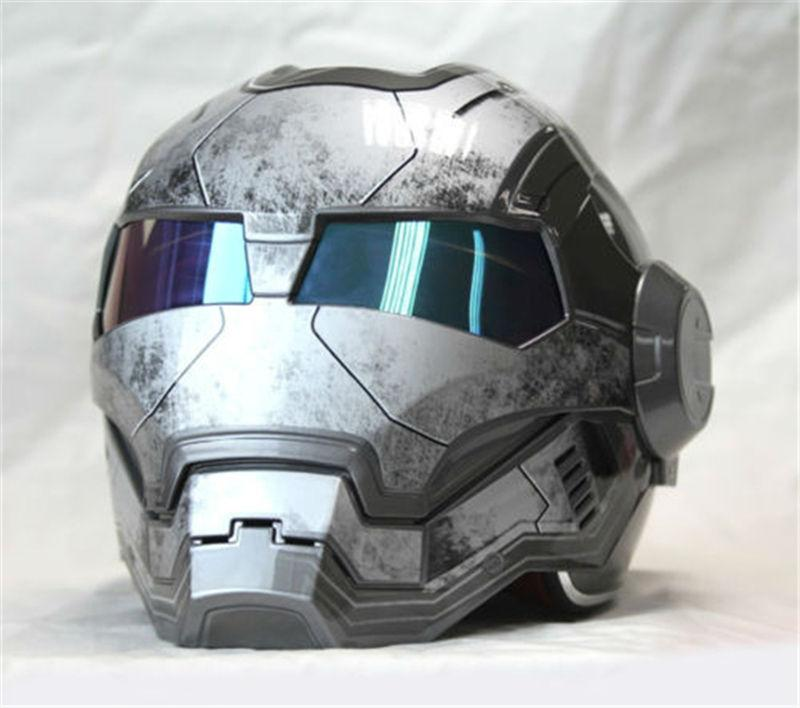with_helmet: (82, 36, 718, 663)
